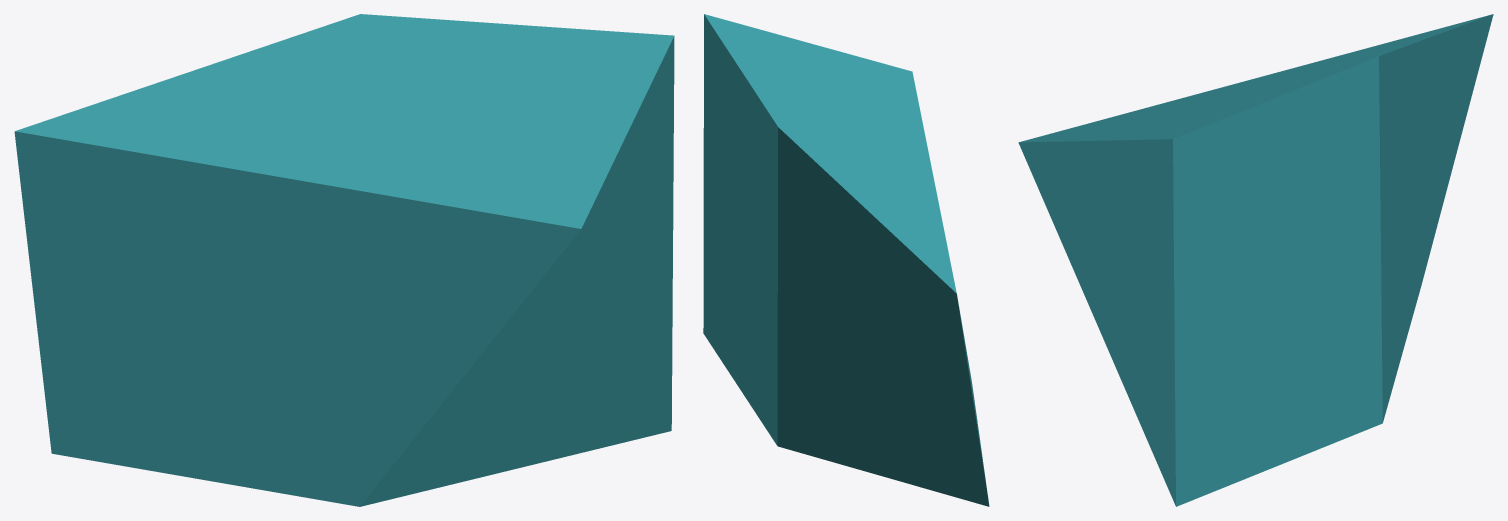
3 views of the same model, side by side, from view 1: azimuth 30°, elevation 25°; view 2: azimuth 150°, elevation 25°; view 3: azimuth 270°, elevation 25° (orthographic). The views are drawn at different scales.
Visible parts, largest first — view 1: Cube.015; view 2: Cube.015; view 3: Cube.015.
Part boxes in pixels (x1,y1,x2,y2): Cube.015: (14, 14, 674, 506); Cube.015: (703, 14, 989, 506); Cube.015: (1018, 14, 1493, 506).
Bounding box in the file's own units: 1.08 × 0.857 × 0.9792.
